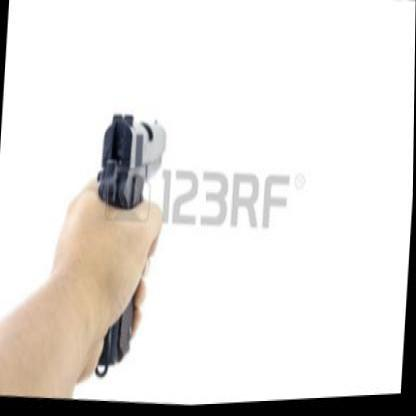pistol: (86, 104, 166, 367)
